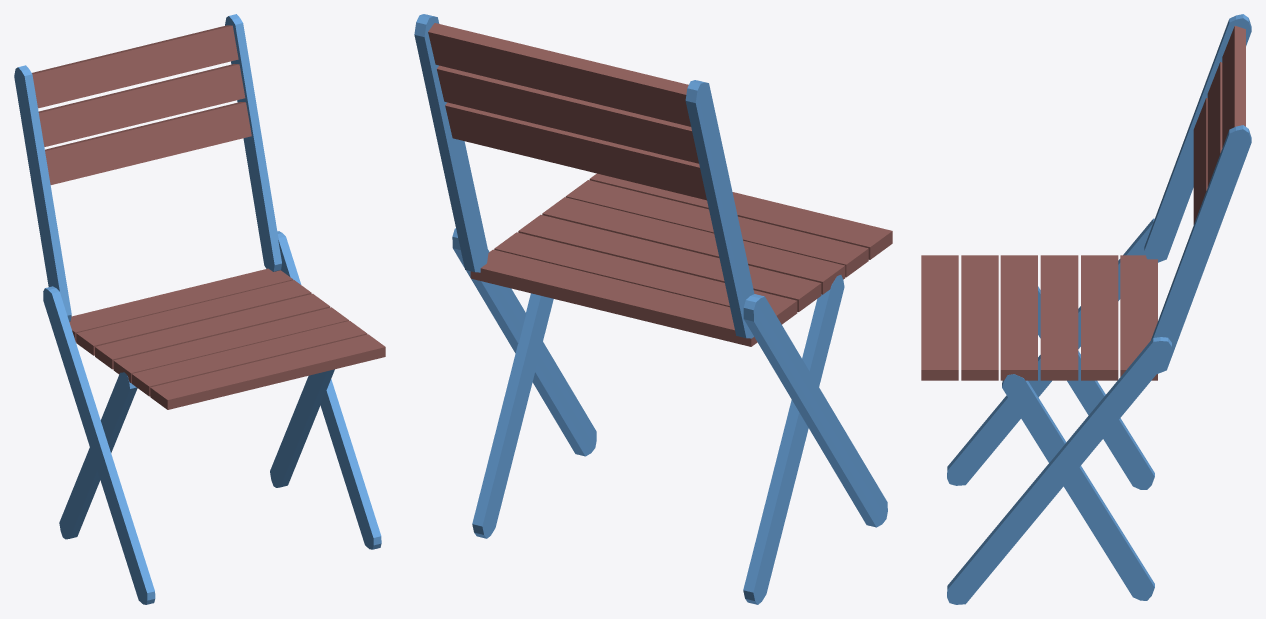
Rendered from Blue Lawn Chair.fbx.
3 views of the same model, side by side, from view 1: azimuth 30°, elevation 25°; view 2: azimuth 150°, elevation 25°; view 3: azimuth 270°, elevation 25° (orthographic). The views are drawn at different scales.
Visible parts, largest first — view 1: Cube.001, Cube; view 2: Cube.001, Cube; view 3: Cube.001, Cube.
Part boxes in pixels (box(x1,y1,x2,y2)): Cube.001: box(32, 25, 385, 409); Cube: box(14, 14, 381, 604); Cube.001: box(428, 23, 892, 346); Cube: box(414, 14, 887, 604); Cube.001: box(921, 26, 1245, 380); Cube: box(947, 14, 1251, 604).
Bounding box in the file's own units: 1555 × 2778 × 1763.
